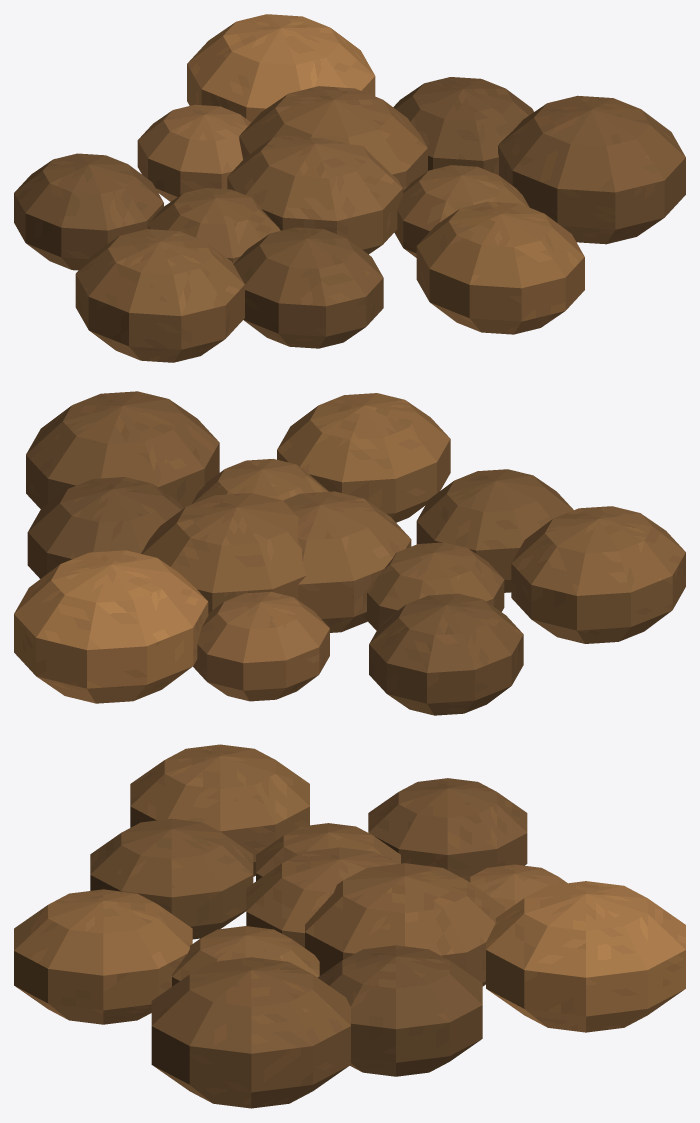
File: cashews.glb
3 views of the same model, one above another, from view 1: azimuth 30°, elevation 25°; view 2: azimuth 150°, elevation 25°; view 3: azimuth 270°, elevation 25° (orthographic). The views are drawn at different scales.
Visible parts, largest first — view 1: block_grain 11, block_grain 10, block_grain 8, block_grain 5, block_grain 0, block_grain 9, block_grain 7, block_grain 1, block_grain 6, block_grain 4, block_grain 3, block_grain 2; view 2: block_grain 9, block_grain 10, block_grain 11, block_grain 8, block_grain 7, block_grain 1, block_grain 4, block_grain 0, block_grain 5, block_grain 6, block_grain 2, block_grain 3; view 3: block_grain 11, block_grain 9, block_grain 8, block_grain 6, block_grain 1, block_grain 10, block_grain 5, block_grain 7, block_grain 0, block_grain 3, block_grain 2, block_grain 4.
Part boxes in pixels (x1,y1,x2,y2): block_grain 11: [498, 95, 685, 244]; block_grain 10: [75, 229, 244, 362]; block_grain 8: [416, 201, 584, 334]; block_grain 5: [233, 227, 383, 348]; block_grain 0: [227, 135, 402, 254]; block_grain 9: [187, 14, 375, 122]; block_grain 7: [14, 153, 163, 270]; block_grain 1: [239, 86, 427, 190]; block_grain 6: [393, 77, 533, 174]; block_grain 4: [137, 104, 250, 201]; block_grain 3: [394, 165, 529, 257]; block_grain 2: [148, 188, 280, 263]; block_grain 9: [14, 550, 208, 703]; block_grain 10: [511, 506, 685, 643]; block_grain 11: [26, 391, 219, 508]; block_grain 8: [277, 393, 450, 522]; block_grain 7: [369, 593, 523, 715]; block_grain 1: [141, 493, 306, 613]; block_grain 4: [193, 591, 329, 701]; block_grain 0: [283, 491, 411, 632]; block_grain 5: [416, 469, 573, 592]; block_grain 6: [27, 477, 183, 578]; block_grain 2: [363, 542, 504, 630]; block_grain 3: [191, 459, 328, 504]; block_grain 11: [151, 957, 350, 1108]; block_grain 9: [486, 881, 685, 1032]; block_grain 8: [14, 889, 192, 1024]; block_grain 6: [317, 945, 482, 1076]; block_grain 1: [305, 863, 505, 986]; block_grain 10: [130, 744, 309, 876]; block_grain 5: [90, 818, 253, 939]; block_grain 7: [368, 778, 527, 879]; block_grain 0: [246, 847, 397, 947]; block_grain 3: [172, 926, 319, 986]; block_grain 2: [256, 823, 400, 881]; block_grain 4: [466, 864, 567, 910].
Size of the model in its own units: 0.0716 by 0.0139 by 0.0671.
1 material, 1 textured.
